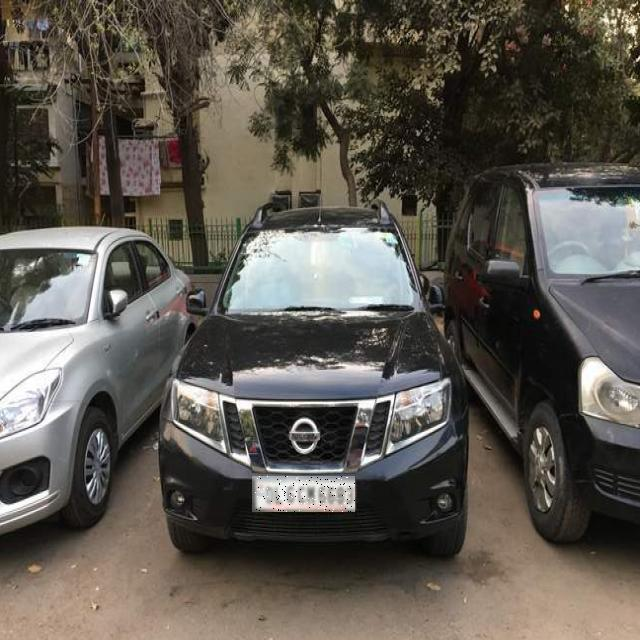Plate: (253, 477, 356, 513)
